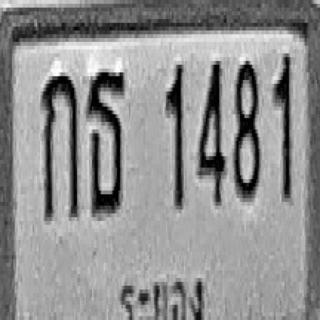A01: (41, 70, 78, 219)
A24: (87, 67, 125, 215)
N01: (164, 61, 184, 210), (273, 51, 291, 200)
N04: (197, 59, 225, 204)
N08: (233, 57, 260, 198)
P53: (117, 259, 207, 320)
